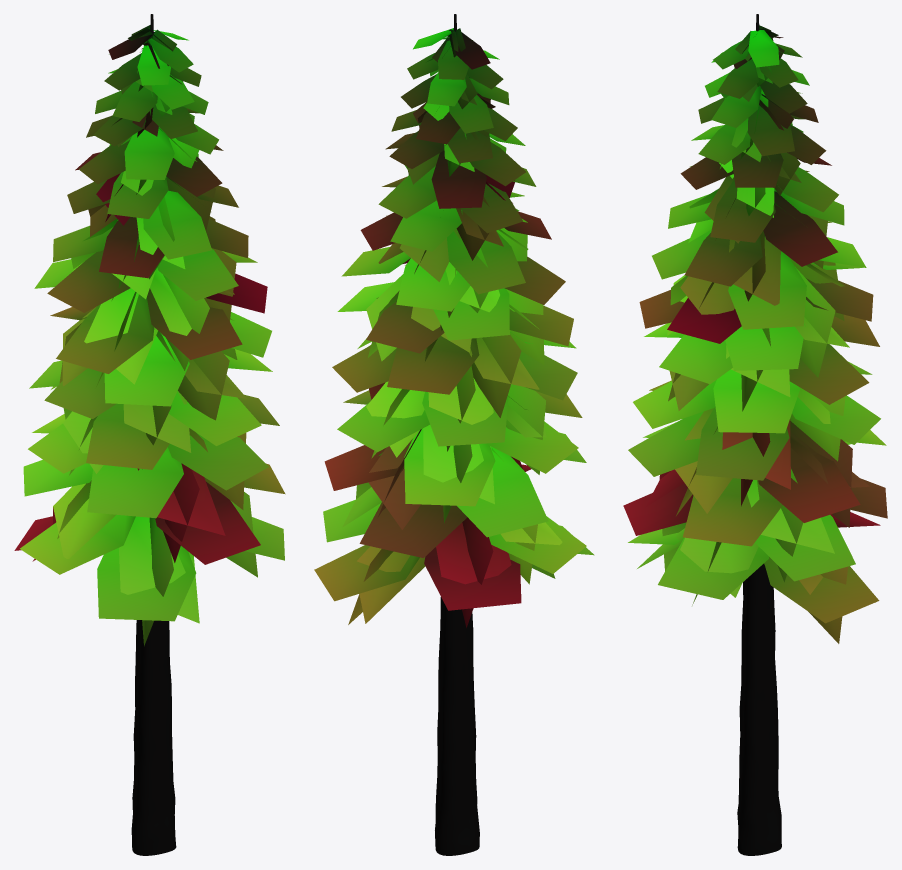
The model's file is Pine_2.fbx.
The picture shows the model from 3 angles, left to right: view 1: azimuth 30°, elevation 25°; view 2: azimuth 150°, elevation 25°; view 3: azimuth 270°, elevation 25°; orthographic projection.
Parts seen in each view (by area): view 1: Pine_2; view 2: Pine_2; view 3: Pine_2.
Part boxes in pixels (x1,y1,x2,y2): Pine_2: (14, 14, 285, 855); Pine_2: (314, 14, 594, 855); Pine_2: (623, 14, 887, 855).
Bounding box in the file's own units: 361 × 1251 × 360.
